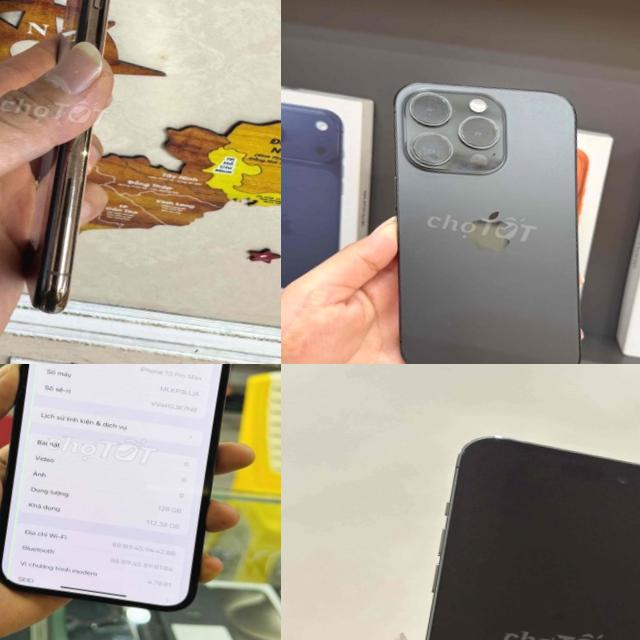gen_12_13: (0, 364, 248, 621)
gen_14: (361, 418, 640, 640)
gen_15: (358, 58, 630, 364)
gen_x_xs: (27, 127, 89, 313), (58, 0, 109, 63), (49, 106, 91, 122)
